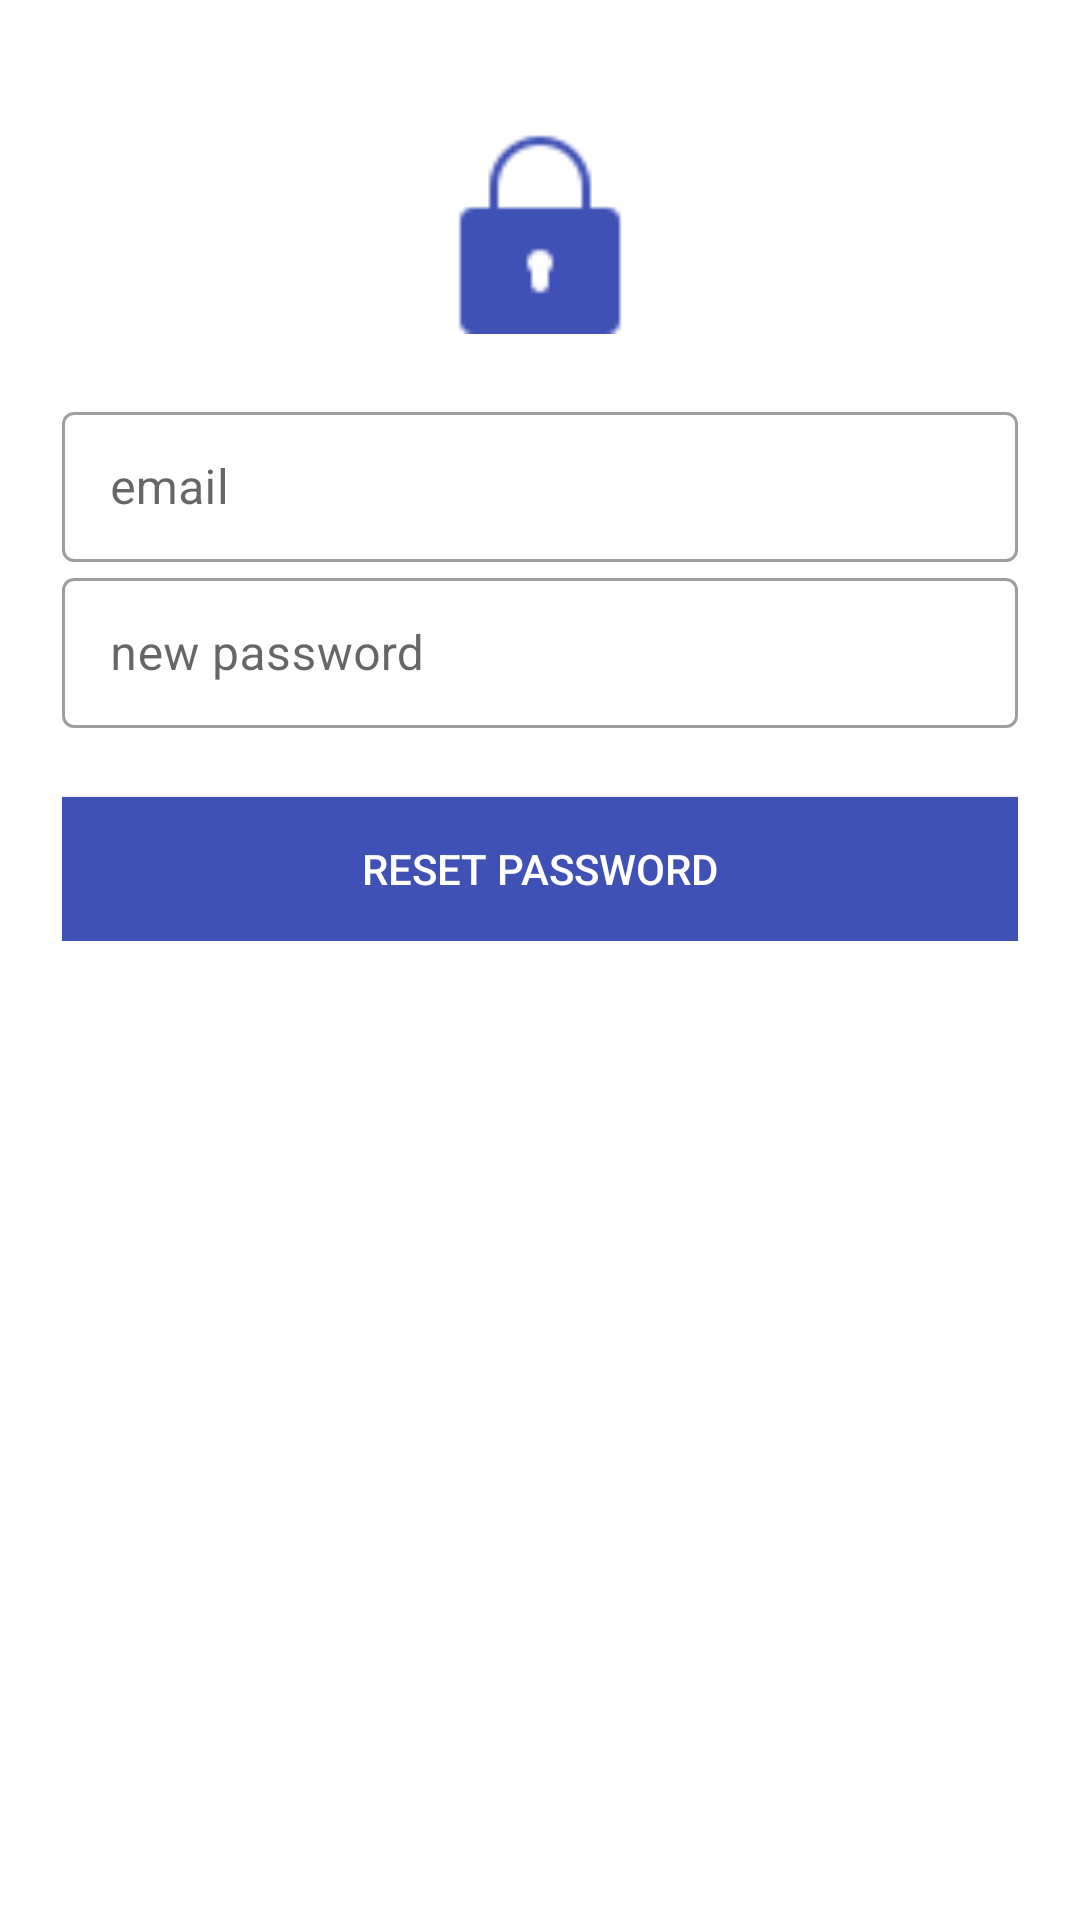

Icons on this 1080 × 1920 Android screen, each with its box as (x1, y1, x2, y2):
lock: (459, 135, 621, 334)
